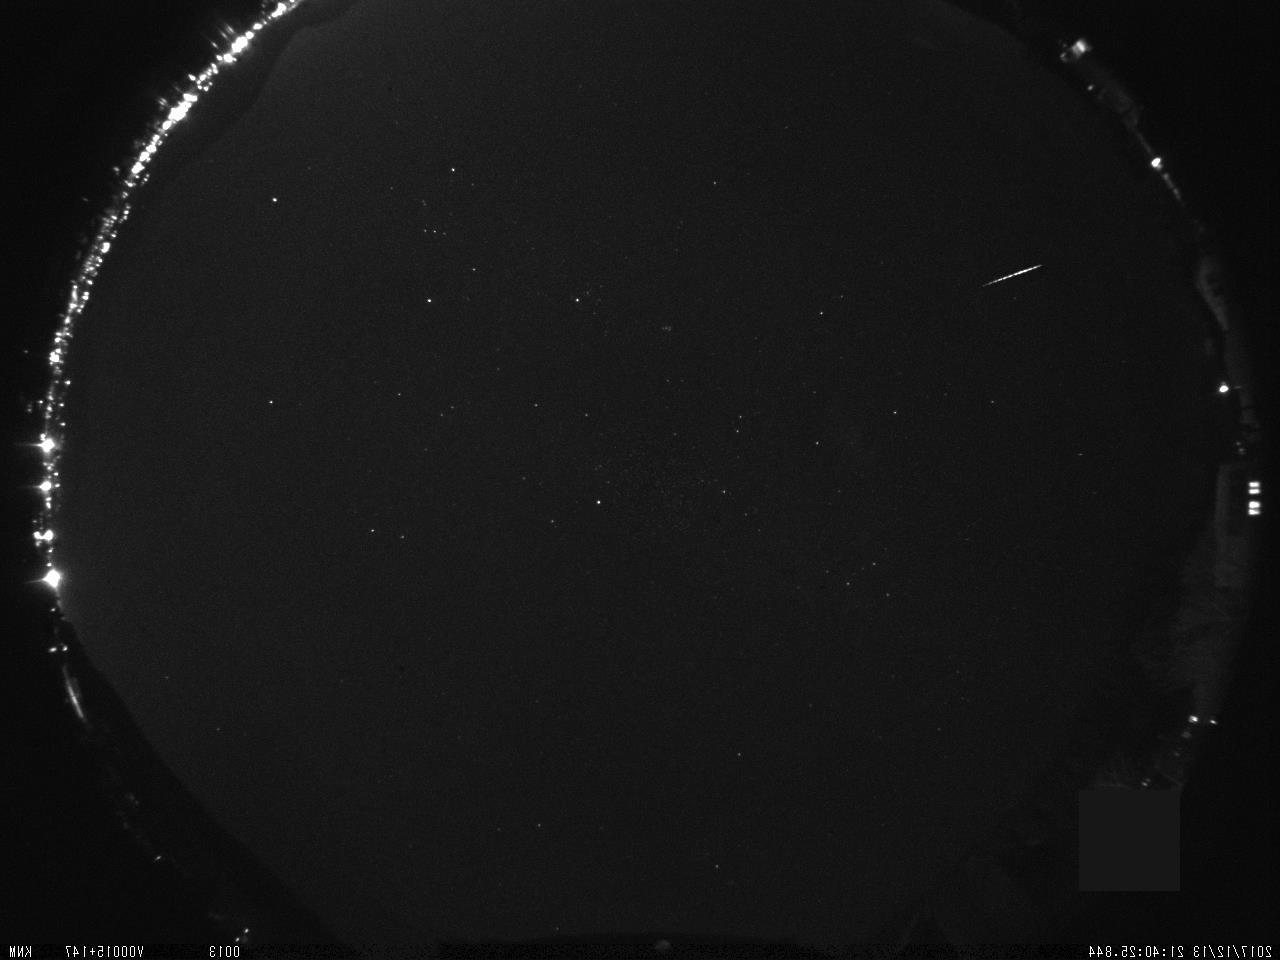meteor: (973, 254, 1052, 297)
